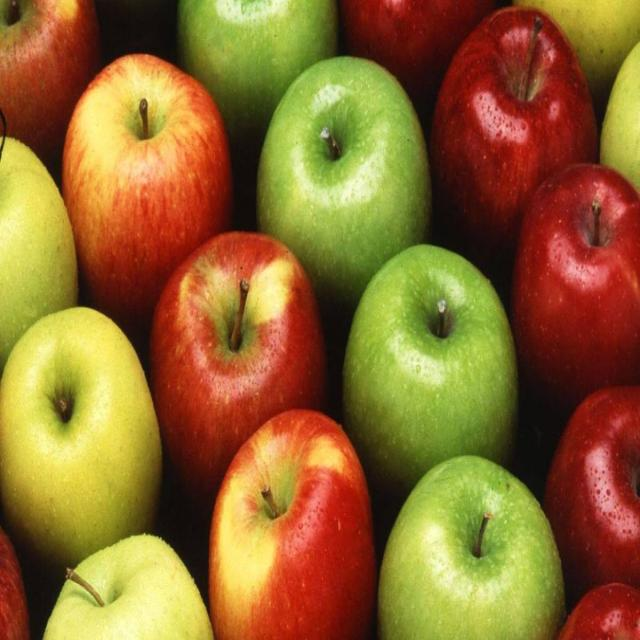manzana: (53, 50, 242, 301)
